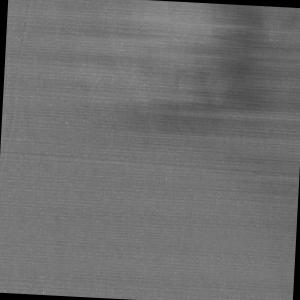Wrinkle: (1, 1, 300, 153)
